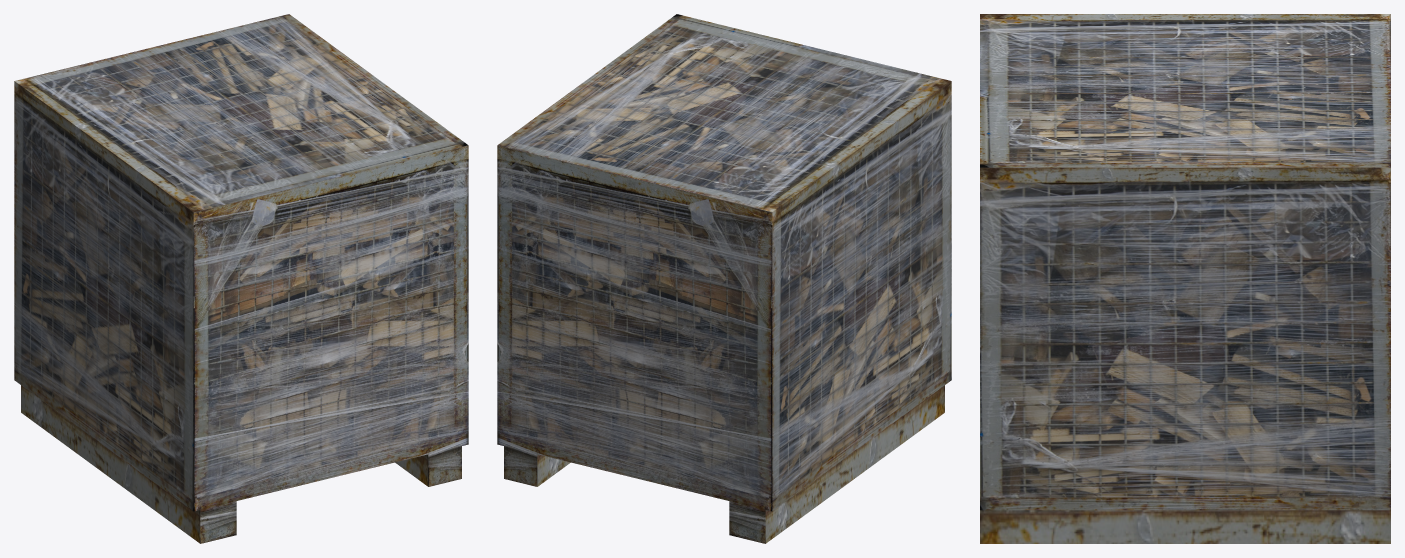
File: SM_Crate01.fbx
3 renders of one model, left to right at view 1: azimuth 30°, elevation 25°; view 2: azimuth 150°, elevation 25°; view 3: azimuth 270°, elevation 25°, orthographic. The views are drawn at different scales.
Visible parts, largest first — view 1: SM_Crate01; view 2: SM_Crate01; view 3: SM_Crate01.
Boxes of the visible parts, box(x1,y1,x2,y2) form: SM_Crate01: box(14, 14, 468, 543); SM_Crate01: box(497, 14, 951, 543); SM_Crate01: box(980, 14, 1390, 543).
Size of the model in its own units: 231 by 267 by 261.
